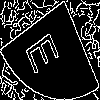E: (24, 25, 66, 77)
